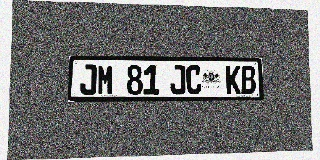1: (143, 65, 159, 95)
8: (127, 65, 143, 95)
B: (241, 66, 256, 94)
C: (186, 65, 201, 95)
J: (80, 64, 97, 95), (170, 65, 186, 95)
K: (226, 65, 241, 94)
M: (97, 65, 114, 95)
